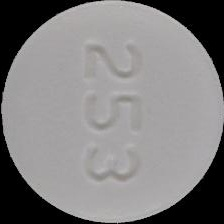13811-682: (0, 0, 224, 224)
